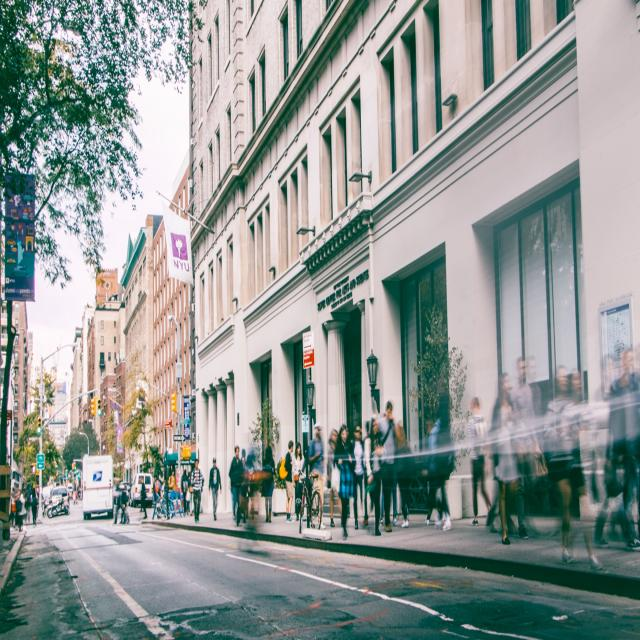body: (487, 335, 640, 565), (484, 368, 522, 547), (419, 398, 459, 529), (465, 396, 493, 528), (378, 399, 402, 534), (332, 422, 358, 541), (363, 416, 386, 536), (347, 424, 369, 532), (306, 421, 327, 531), (392, 420, 412, 528), (325, 428, 343, 527), (259, 444, 278, 524), (228, 444, 245, 528), (362, 419, 377, 510), (292, 442, 306, 522), (283, 438, 295, 524), (296, 458, 312, 517), (208, 455, 222, 521), (190, 458, 203, 524), (152, 472, 168, 520), (240, 456, 250, 524), (10, 487, 26, 527), (113, 488, 130, 524), (136, 474, 148, 522), (180, 468, 190, 516), (185, 468, 195, 516), (29, 487, 38, 529), (241, 495, 254, 521), (70, 480, 84, 502), (168, 468, 178, 492), (300, 450, 308, 478), (328, 438, 336, 455), (240, 449, 248, 455)
